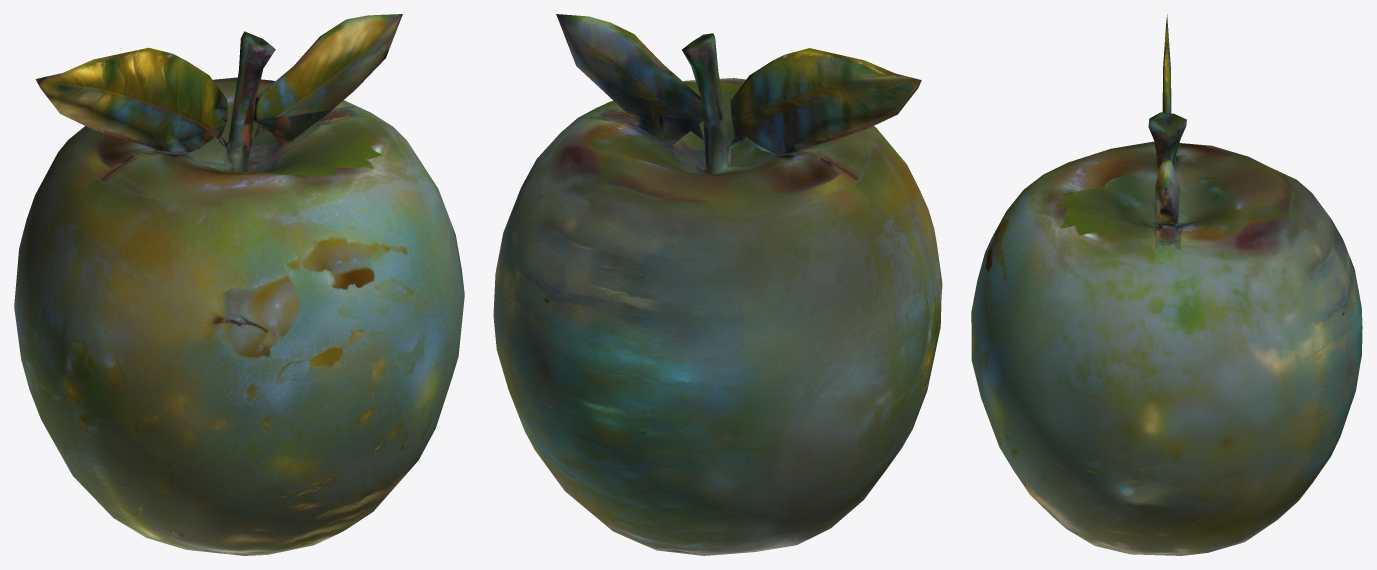
The picture shows the model from 3 angles, left to right: view 1: azimuth 30°, elevation 25°; view 2: azimuth 150°, elevation 25°; view 3: azimuth 270°, elevation 25°; orthographic projection. The views are drawn at different scales.
Parts seen in each view (by area): view 1: Mesh1.0; view 2: Mesh1.0; view 3: Mesh1.0.
Part boxes in pixels (x1,y1,x2,y2): Mesh1.0: (14, 14, 464, 555); Mesh1.0: (493, 14, 942, 555); Mesh1.0: (971, 14, 1362, 555).
Bounding box in the file's own units: 168 × 198 × 166.
Materials: 1 (1 with a texture image).
